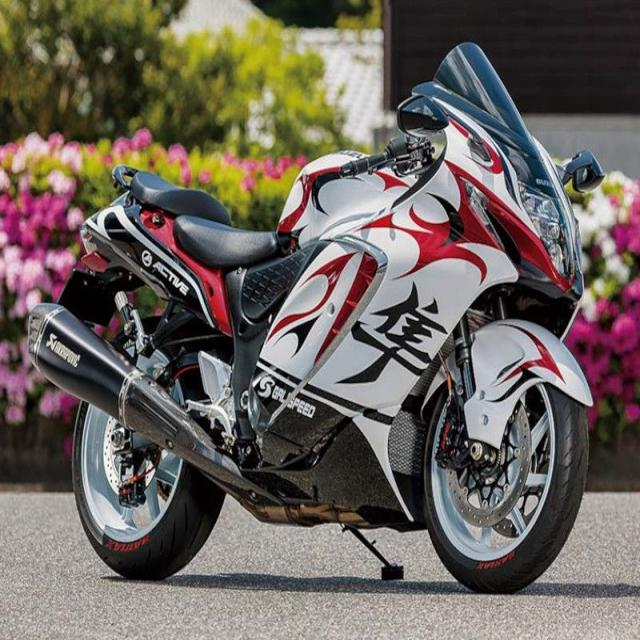Bike: (25, 42, 606, 596)
